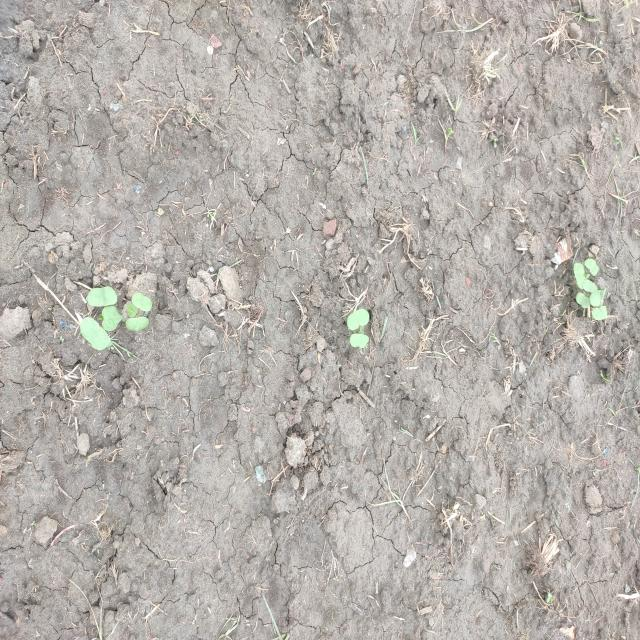seedling: (80, 317, 110, 350), (87, 286, 117, 307), (102, 306, 122, 331), (347, 308, 369, 330), (131, 292, 152, 312), (125, 317, 149, 331), (574, 262, 586, 289), (590, 287, 606, 306), (349, 333, 369, 348), (584, 258, 599, 276), (576, 292, 590, 309), (583, 279, 598, 293), (592, 306, 607, 320), (126, 303, 137, 317)
